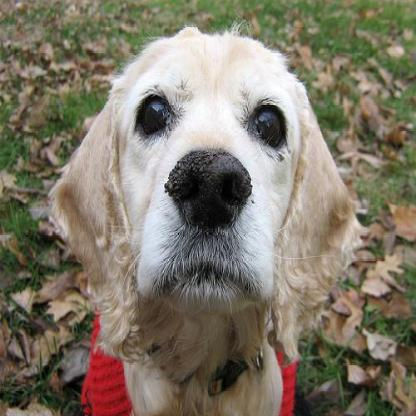cocker_spaniel: (50, 22, 363, 414)
